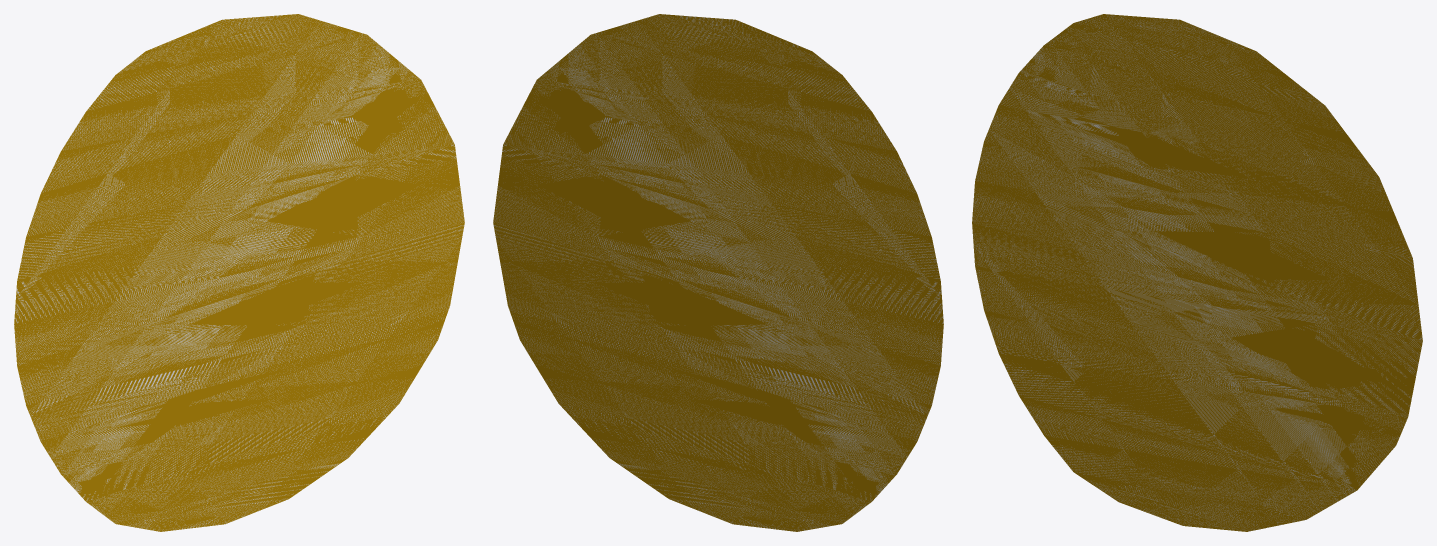
Rendered from original-37.obj.
The picture shows the model from 3 angles, left to right: view 1: azimuth 30°, elevation 25°; view 2: azimuth 150°, elevation 25°; view 3: azimuth 330°, elevation 25°; orthographic projection.
Visible parts, largest first — view 1: 3dw.2c6493d31849c15a75f1efca97bee05a/Model/Sentry_Really_Big_Rem; view 2: 3dw.2c6493d31849c15a75f1efca97bee05a/Model/Sentry_Really_Big_Rem; view 3: 3dw.2c6493d31849c15a75f1efca97bee05a/Model/Sentry_Really_Big_Rem.
Boxes of the visible parts, x1,y1,x2,y2 form: 3dw.2c6493d31849c15a75f1efca97bee05a/Model/Sentry_Really_Big_Rem: [14, 14, 464, 531]; 3dw.2c6493d31849c15a75f1efca97bee05a/Model/Sentry_Really_Big_Rem: [493, 14, 943, 531]; 3dw.2c6493d31849c15a75f1efca97bee05a/Model/Sentry_Really_Big_Rem: [972, 14, 1422, 531].
Size of the model in its own units: 0.137 by 0.1468 by 0.
